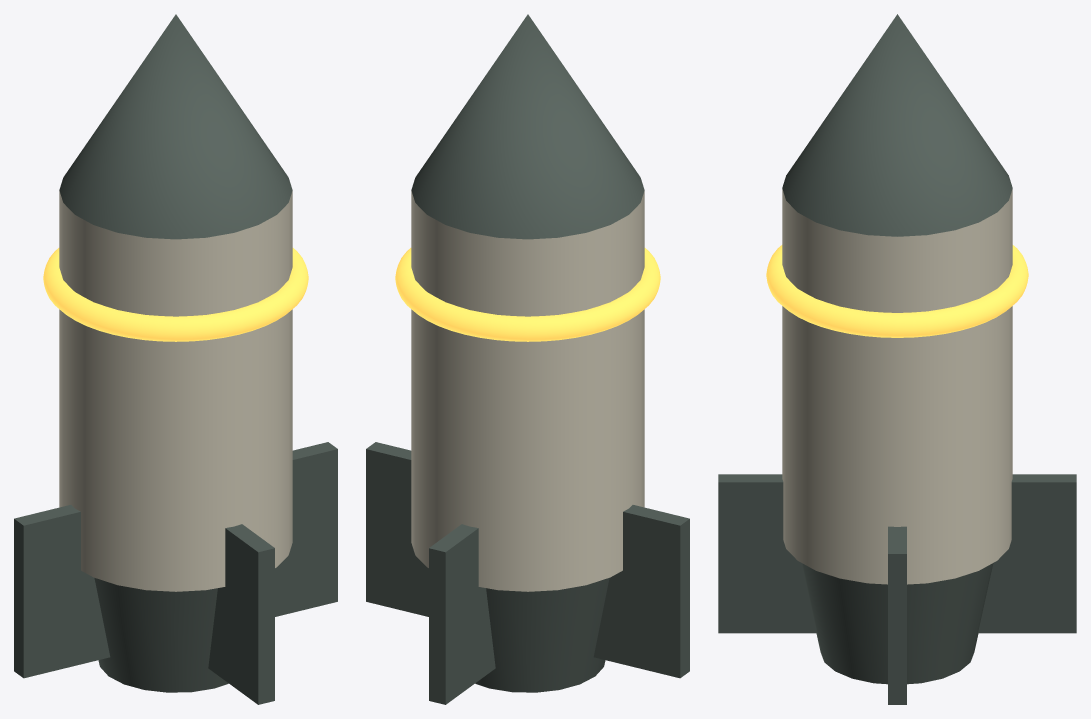
File: zonai_rocket-D8sHwanO.glb
3 renders of one model, left to right at view 1: azimuth 30°, elevation 25°; view 2: azimuth 150°, elevation 25°; view 3: azimuth 270°, elevation 25°, orthographic.
Visible parts, largest first — view 1: body; view 2: body; view 3: body.
Part boxes in pixels (x1=…): body: x1=14, y1=14, x2=337, y2=704; body: x1=366, y1=14, x2=689, y2=704; body: x1=718, y1=14, x2=1076, y2=704.
Bounding box in the file's own units: 0.56 × 1.1 × 0.56.
